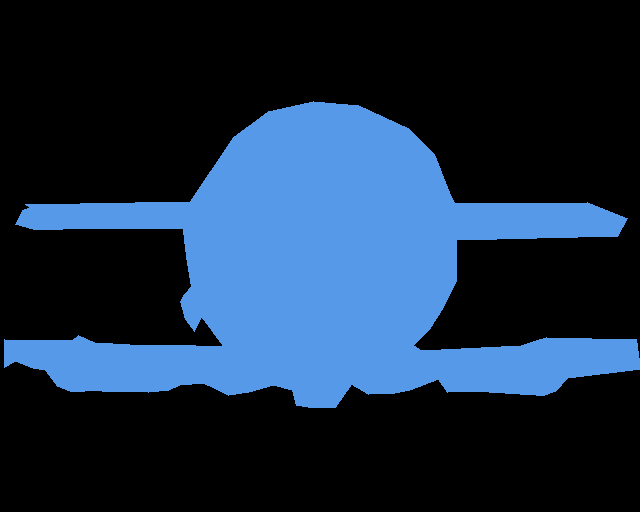Airplane: (4, 101, 640, 407)
